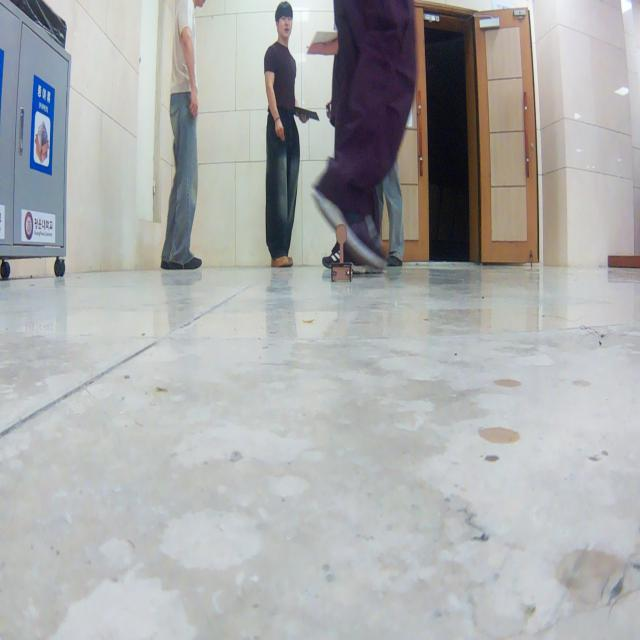target: (331, 223, 352, 283)
